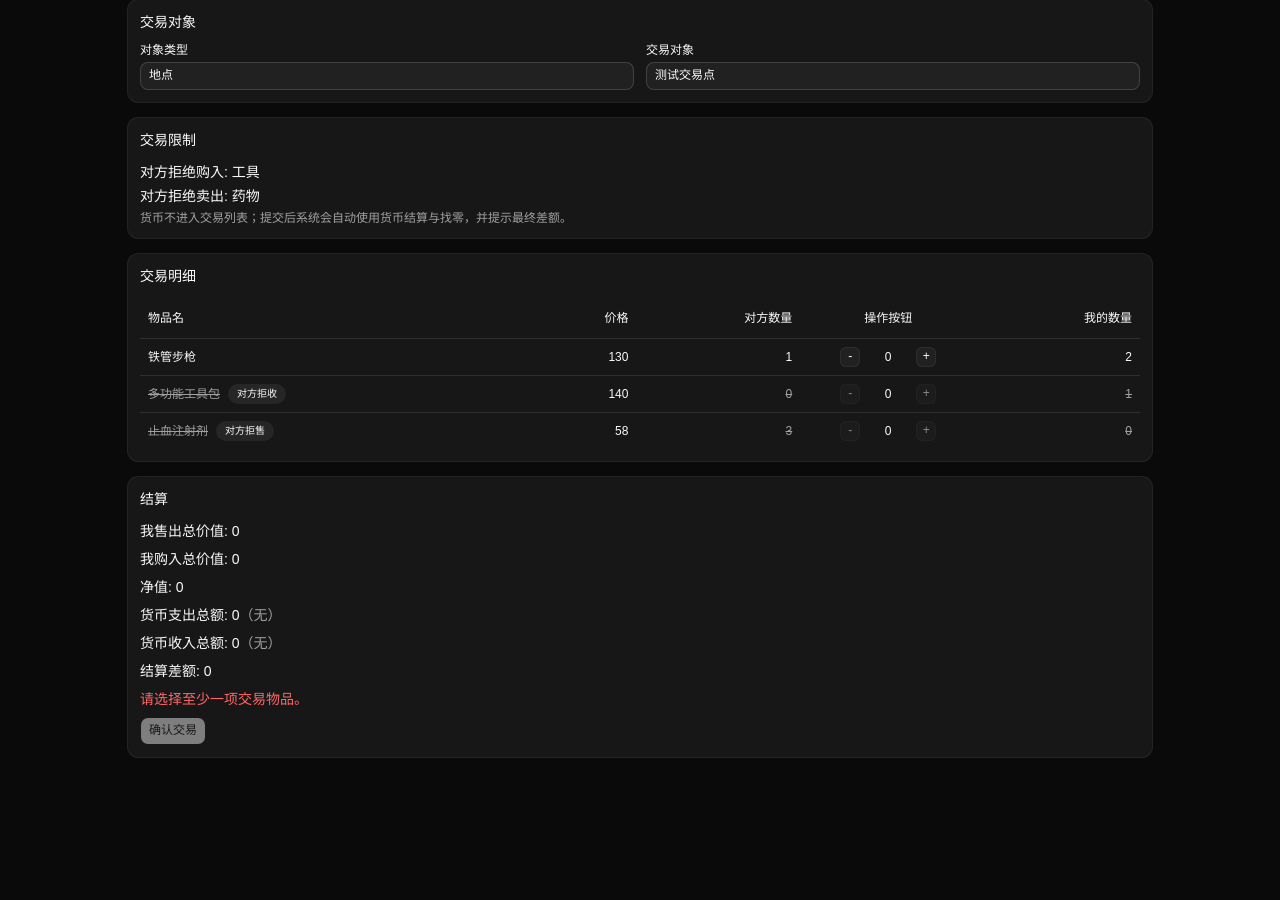
Test: TradePanel › decreases net quantity and caps at player quantity
Step 1. Click the button named "减少铁管步枪" → (850, 356), box [840,346,860,366]
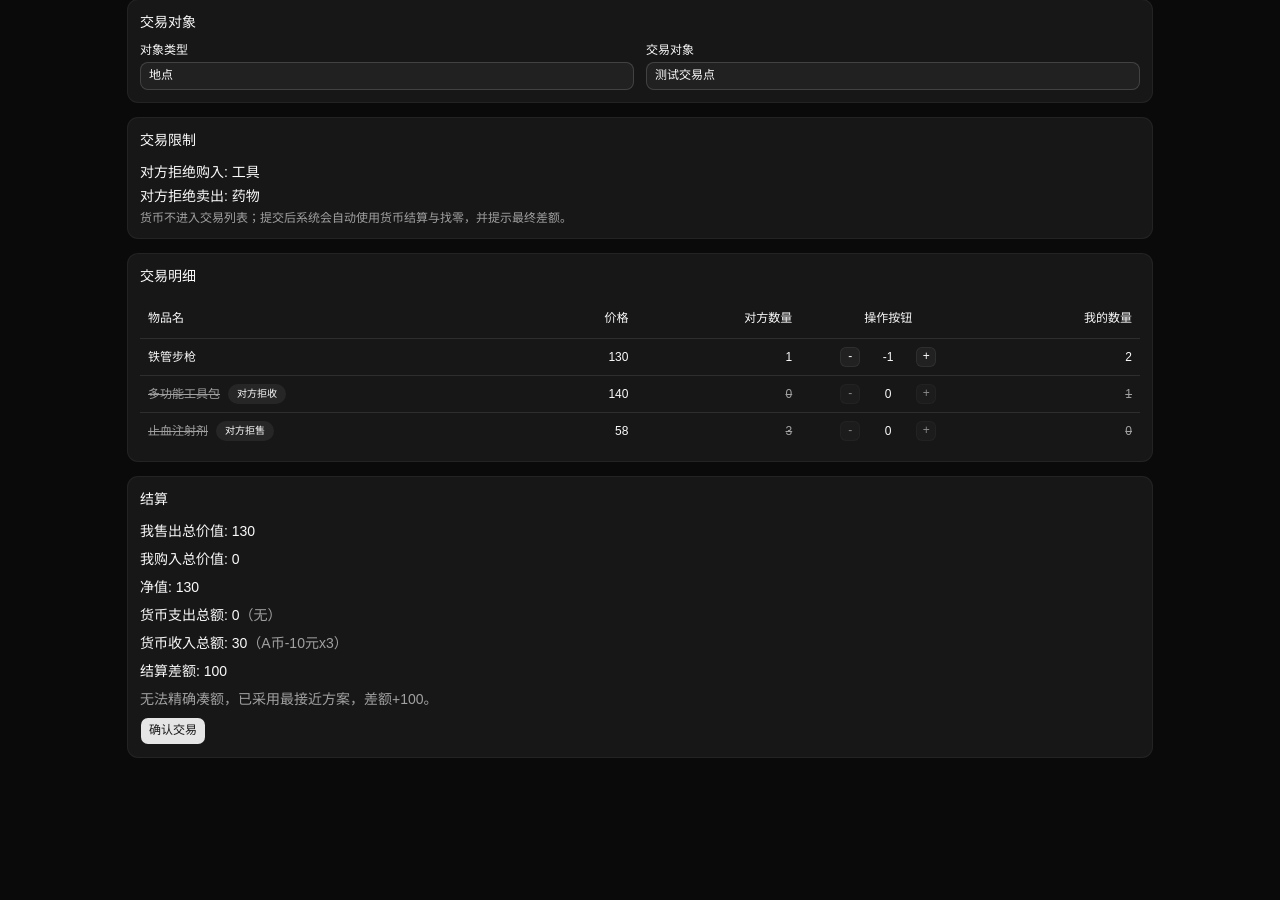
Step 2. Click the button named "减少铁管步枪" → (850, 356), box [840,346,860,366]
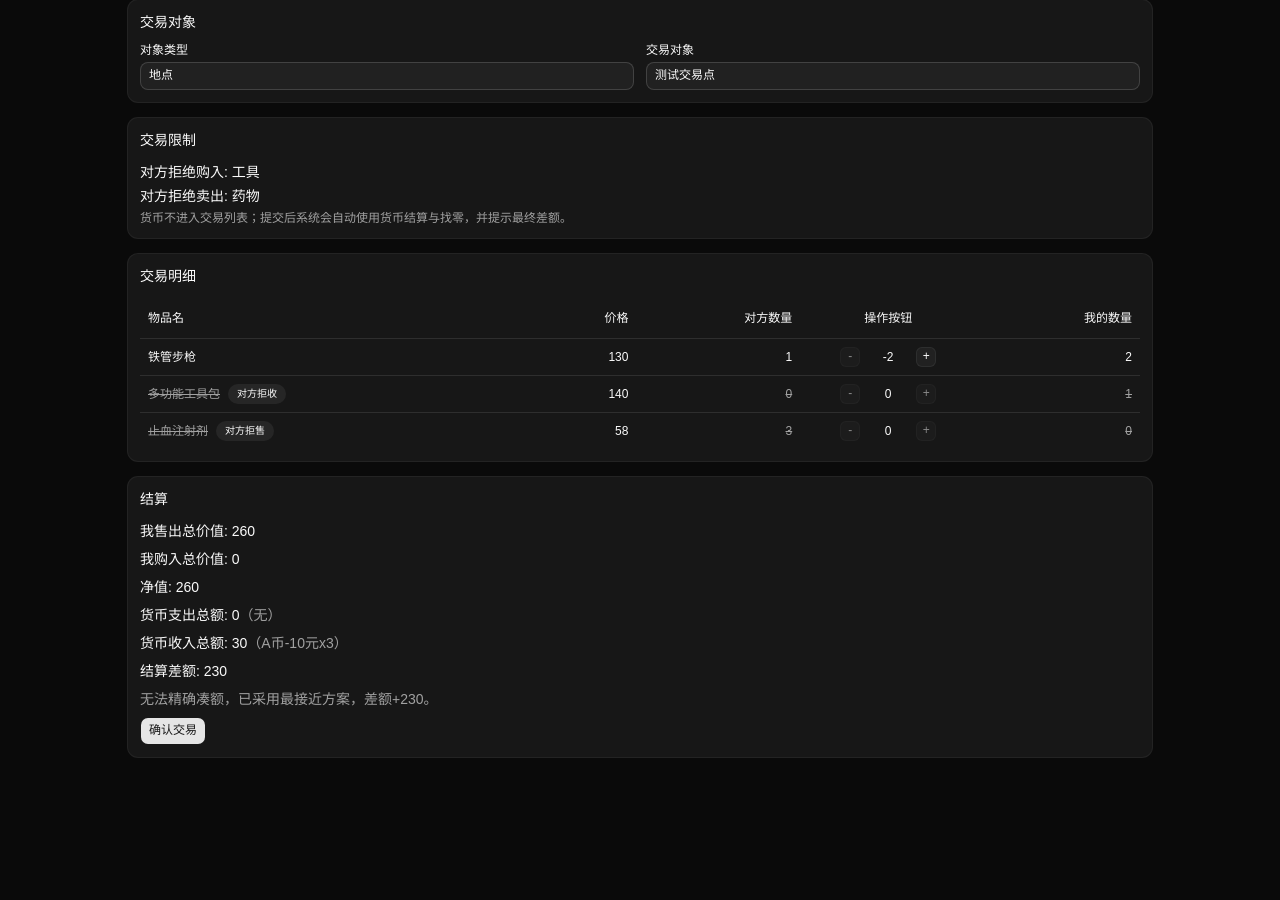
Check: the text with test id "trade-net-weapon-1" reads "-2", box [883,350,894,364]
Check: the text "我售出总价值: 260" is shown, box [140,522,255,538]
Check: the text "净值: 260" is shown, box [140,578,199,594]
